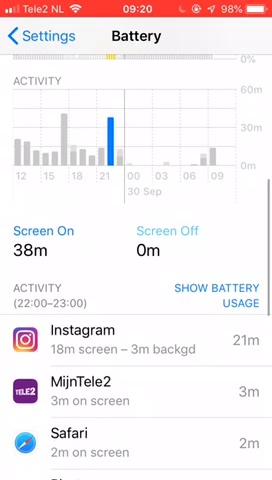activity: (10, 321, 266, 361), (12, 370, 268, 410), (9, 423, 265, 463), (10, 278, 109, 311)
